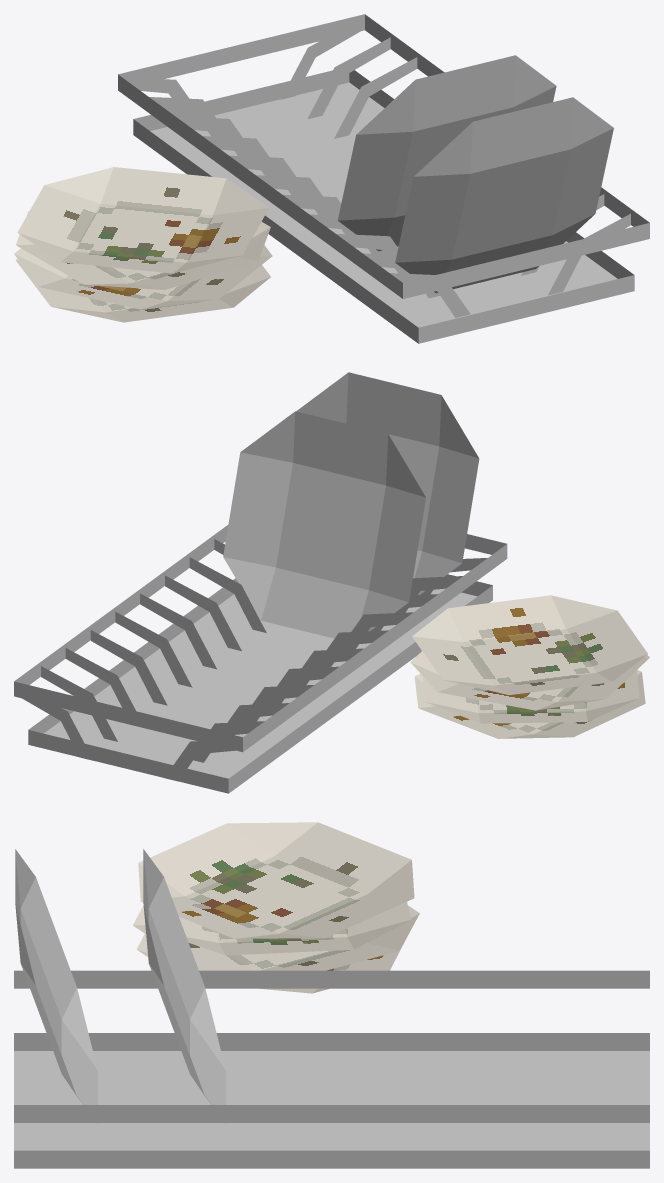
The model's file is Dishes.fbx.
The picture shows the model from 3 angles, top to bottom: view 1: azimuth 30°, elevation 25°; view 2: azimuth 150°, elevation 25°; view 3: azimuth 270°, elevation 25°; orthographic projection. The views are drawn at different scales.
Parts seen in each view (by area): view 1: bottom.001, beveled_cuboid.012, beveled_cuboid.011, beveled_cuboid.013, beveled_cuboid.009, beveled_cuboid.010, beveled_cuboid.008; view 2: bottom.001, beveled_cuboid.013, beveled_cuboid.011, beveled_cuboid.012, beveled_cuboid.009, beveled_cuboid.010, beveled_cuboid.008; view 3: bottom.001, beveled_cuboid.011, beveled_cuboid.013, beveled_cuboid.012, beveled_cuboid.009, beveled_cuboid.010, beveled_cuboid.008.
Part boxes in pixels (x1=…): bottom.001: x1=118, y1=14, x2=649, y2=343; beveled_cuboid.012: x1=395, y1=97, x2=613, y2=293; beveled_cuboid.011: x1=17, y1=167, x2=268, y2=273; beveled_cuboid.013: x1=337, y1=55, x2=556, y2=251; beveled_cuboid.009: x1=14, y1=245, x2=272, y2=309; beveled_cuboid.010: x1=16, y1=210, x2=270, y2=289; beveled_cuboid.008: x1=15, y1=259, x2=270, y2=322; bottom.001: x1=14, y1=525, x2=507, y2=793; beveled_cuboid.013: x1=223, y1=411, x2=425, y2=638; beveled_cuboid.011: x1=412, y1=595, x2=647, y2=694; beveled_cuboid.012: x1=296, y1=372, x2=479, y2=594; beveled_cuboid.009: x1=422, y1=670, x2=639, y2=723; beveled_cuboid.010: x1=410, y1=651, x2=649, y2=710; beveled_cuboid.008: x1=414, y1=670, x2=645, y2=738; bottom.001: x1=14, y1=970, x2=649, y2=1168; beveled_cuboid.011: x1=138, y1=822, x2=414, y2=938; beveled_cuboid.013: x1=143, y1=849, x2=225, y2=1124; beveled_cuboid.012: x1=15, y1=849, x2=97, y2=1124; beveled_cuboid.009: x1=133, y1=905, x2=419, y2=970; beveled_cuboid.010: x1=179, y1=902, x2=411, y2=955; beveled_cuboid.008: x1=136, y1=934, x2=403, y2=993.
Size of the model in its own units: 75.33 by 30.06 by 74.32.
